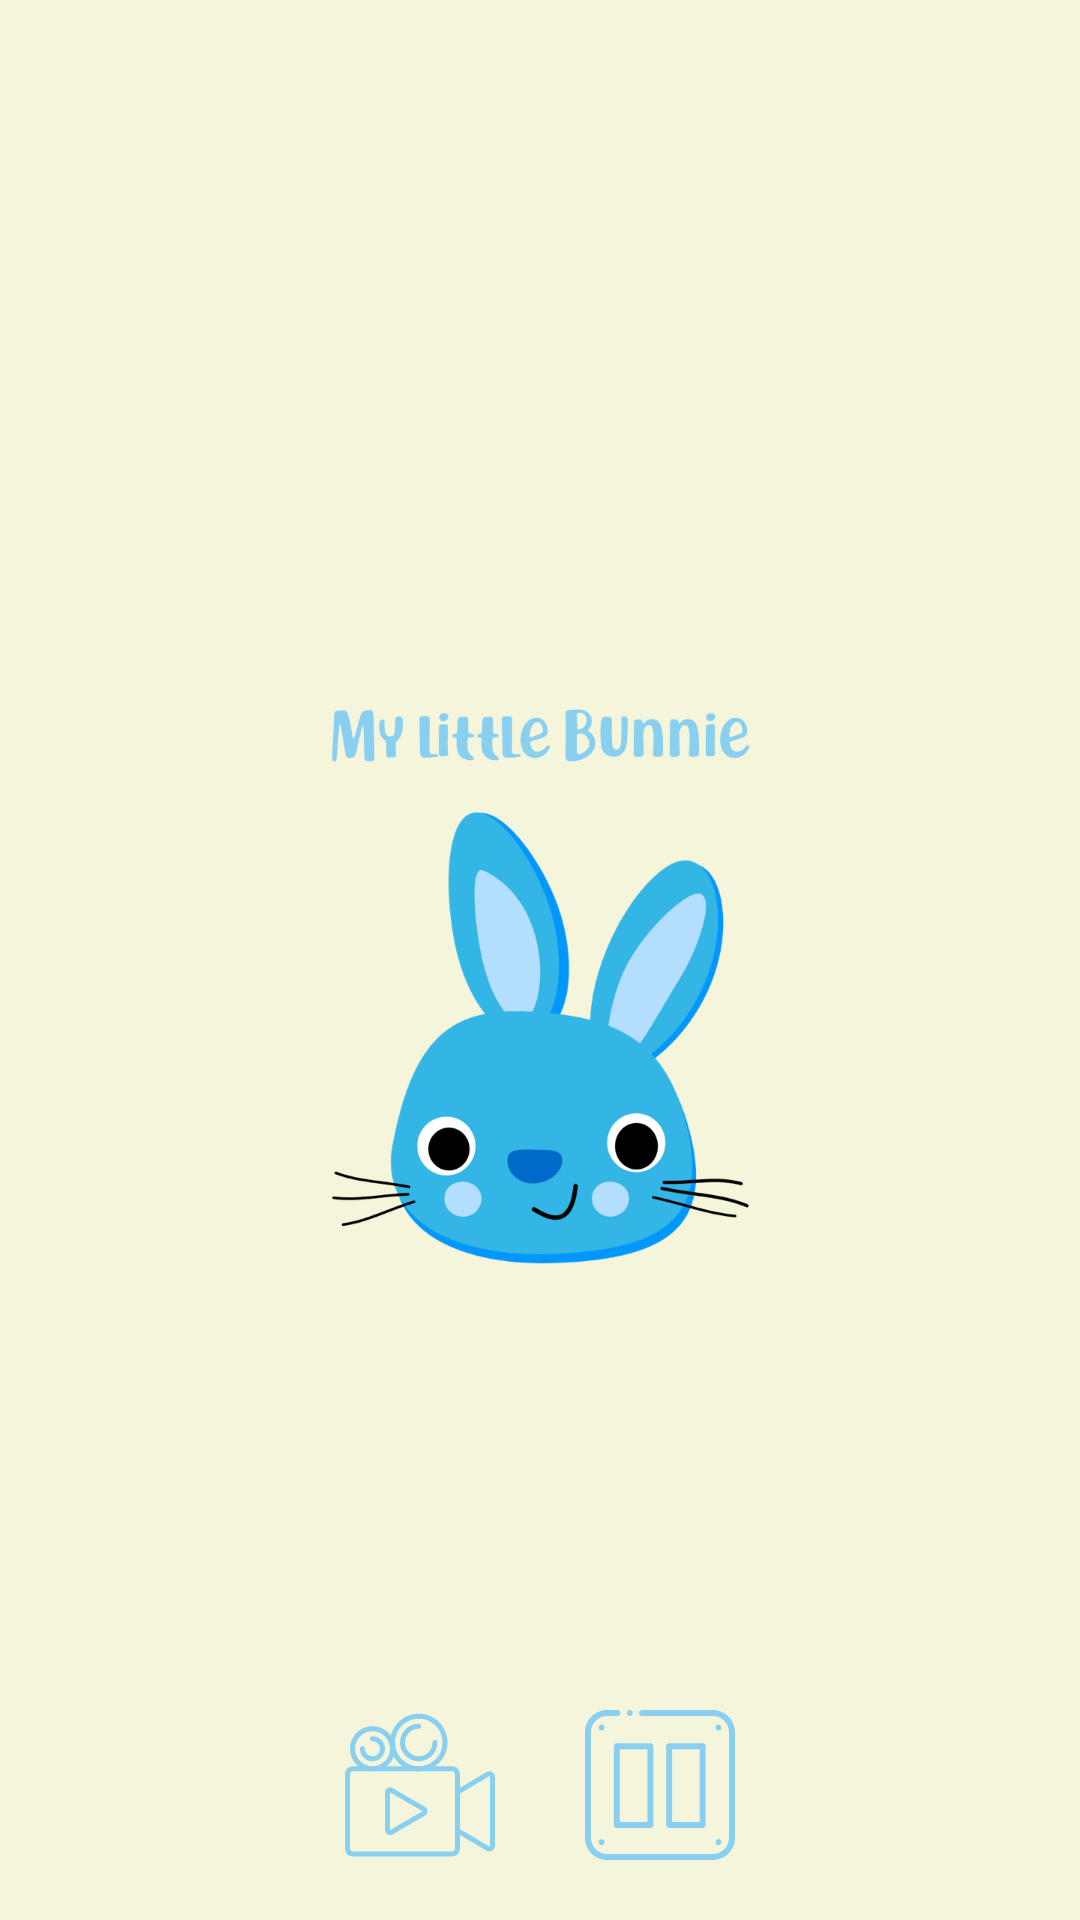

Screen size 1080w x 1920h. Icon name, then its center in pixels as [x,y]:
pause: [660,1785]
video camera: [420,1785]
